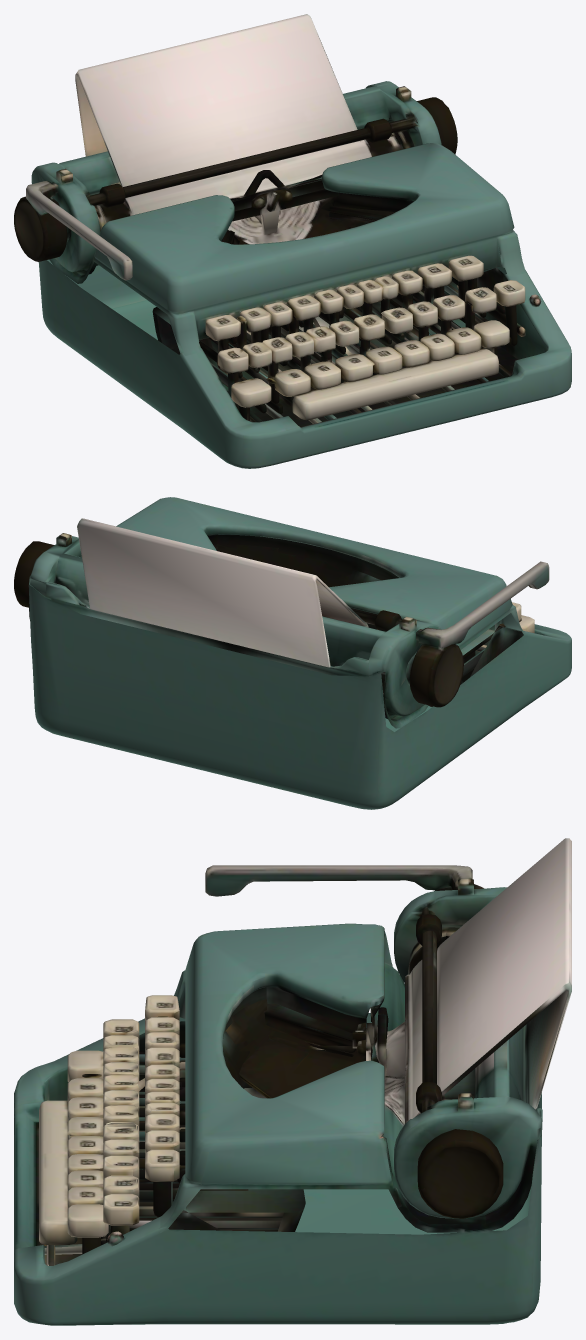
Rendered from Electronics__a_vintage_typewriter_86bfeca1_v4.cluster.glb.
3 renders of one model, top to bottom at view 1: azimuth 30°, elevation 25°; view 2: azimuth 150°, elevation 25°; view 3: azimuth 270°, elevation 25°, orthographic. The views are drawn at different scales.
Parts seen in each view (by area): view 1: material; view 2: material; view 3: material.
Boxes of the visible parts, <box> form: material: <box>14,14,571,468</box>; material: <box>14,497,571,809</box>; material: <box>14,838,571,1325</box>.
Bounding box in the file's own units: 1.9 × 1.04 × 1.7.
Materials: 1 (1 with a texture image).
